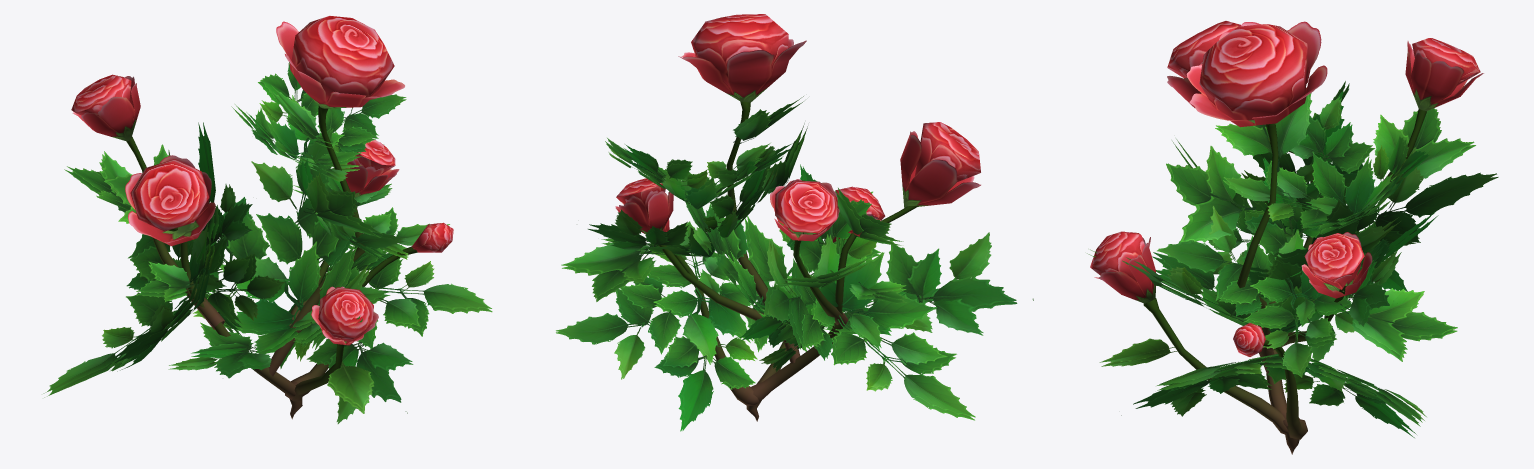
The model's file is SE_Rose_08.fbx.
3 renders of one model, left to right at view 1: azimuth 30°, elevation 25°; view 2: azimuth 150°, elevation 25°; view 3: azimuth 270°, elevation 25°, orthographic. The views are drawn at different scales.
Visible parts, largest first — view 1: SE_Rose_08; view 2: SE_Rose_08; view 3: SE_Rose_08.
Boxes of the visible parts, box(x1,y1,x2,y2) form: SE_Rose_08: box(43, 16, 492, 423); SE_Rose_08: box(556, 14, 1033, 431); SE_Rose_08: box(1087, 21, 1498, 454).
Size of the model in its own units: 4.61 by 4.06 by 3.62.
